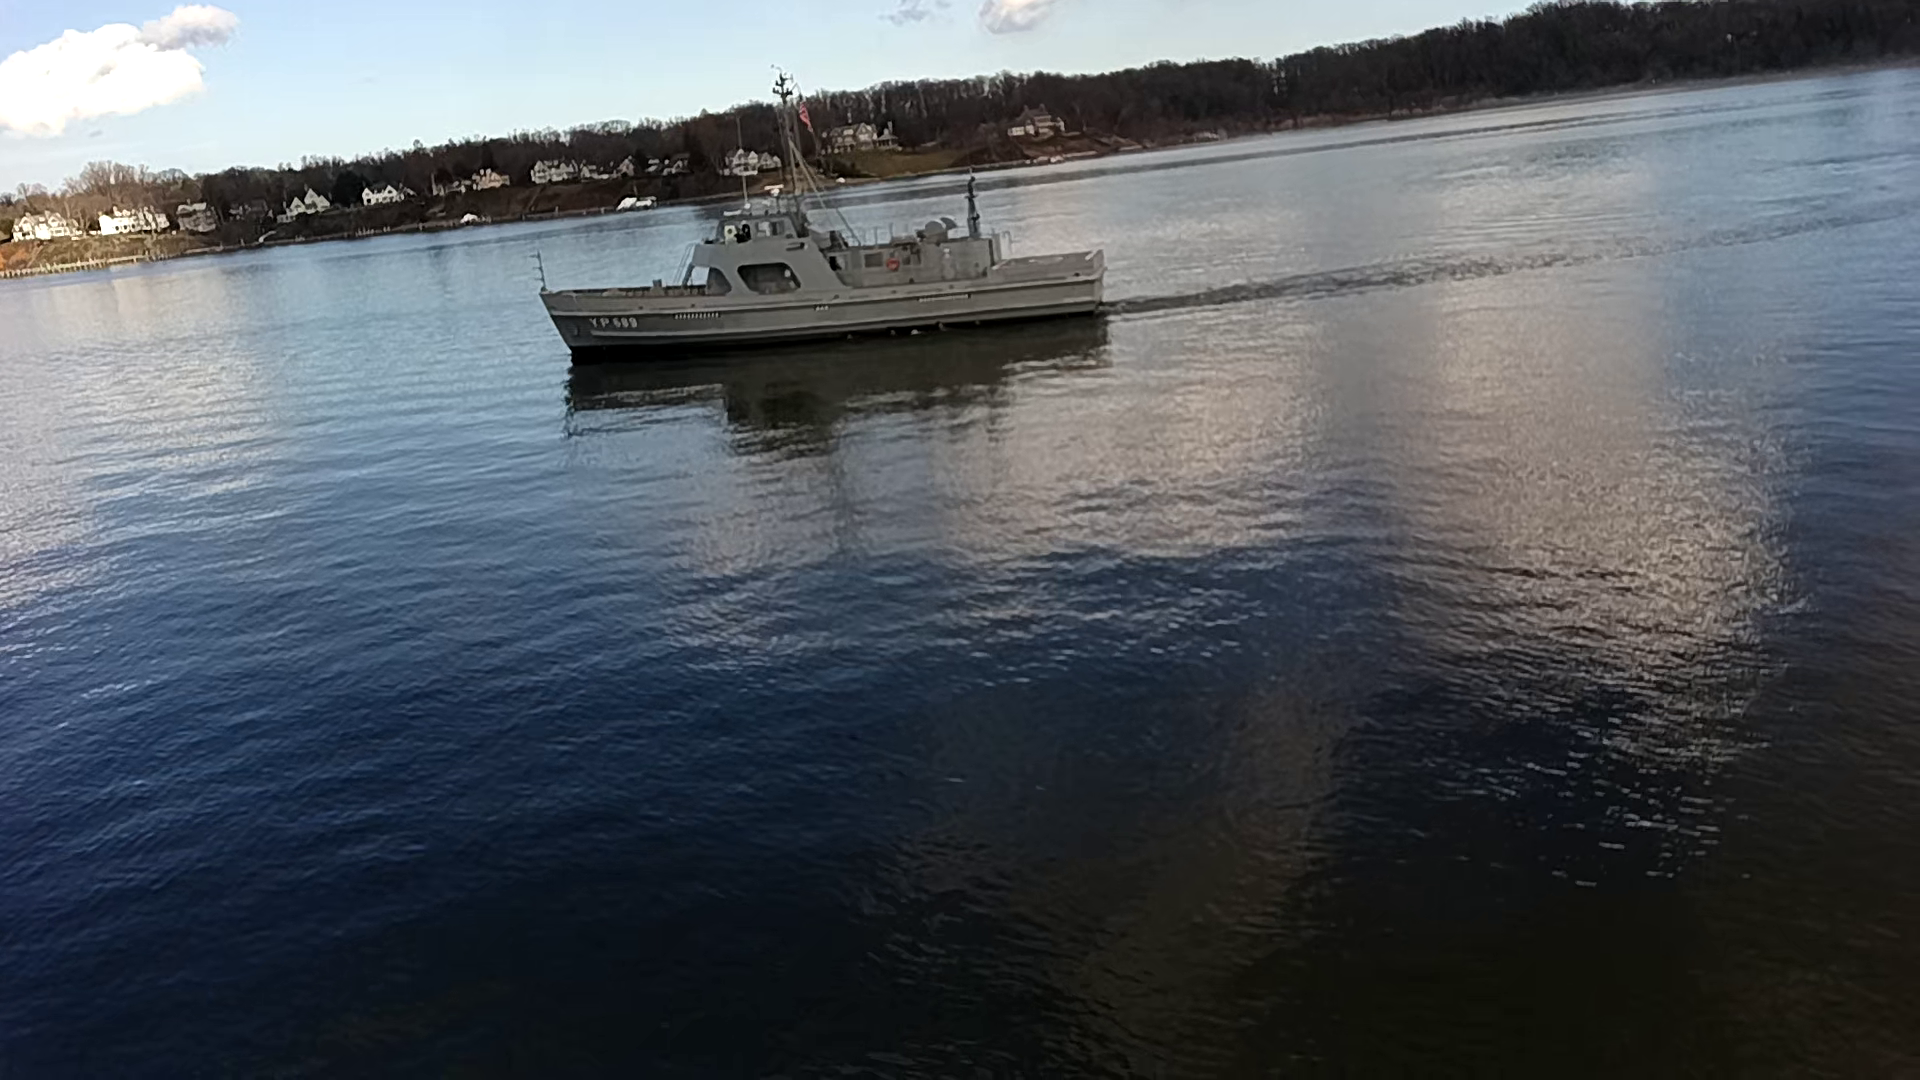YP689: (539, 69, 1106, 356)
